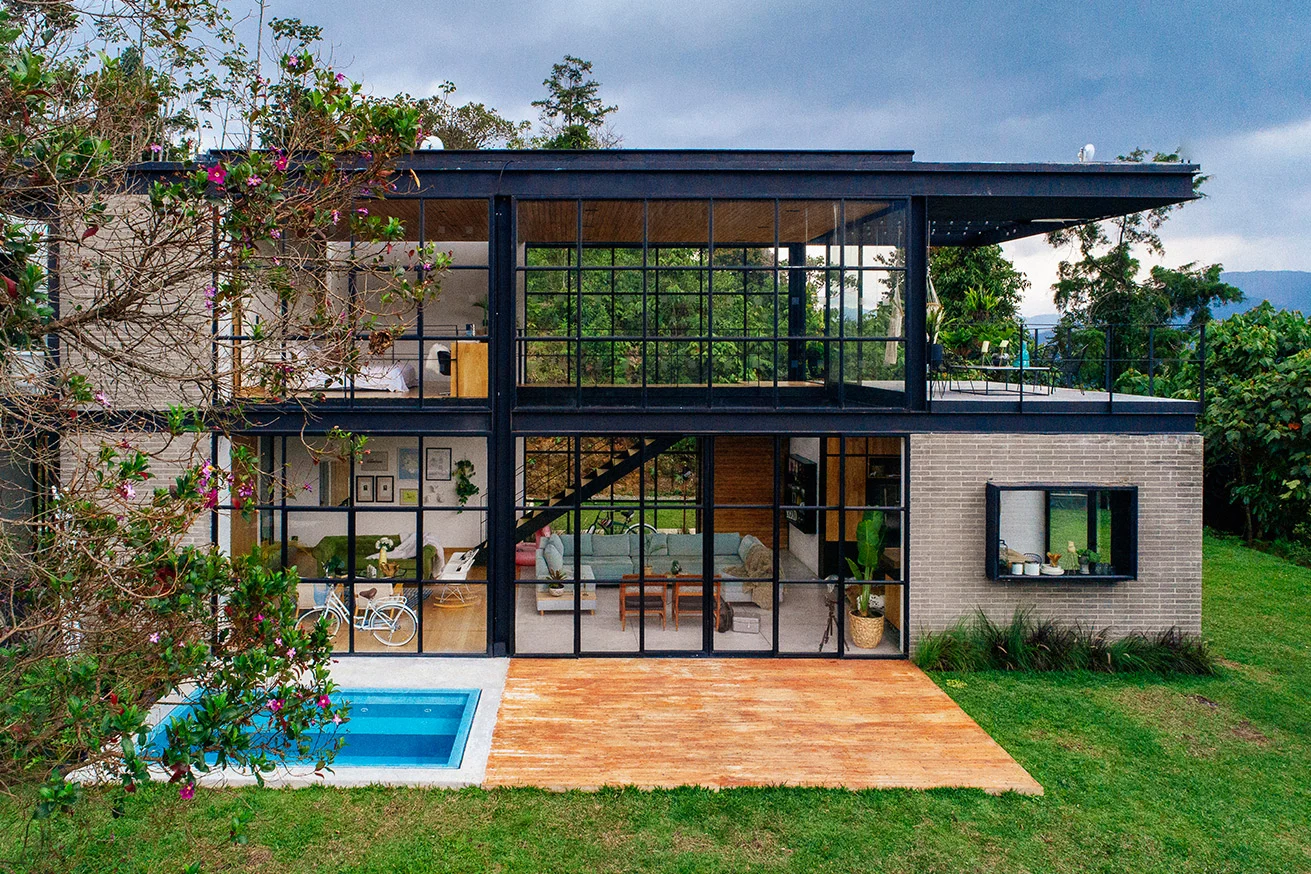House: (45, 107, 1221, 677)
